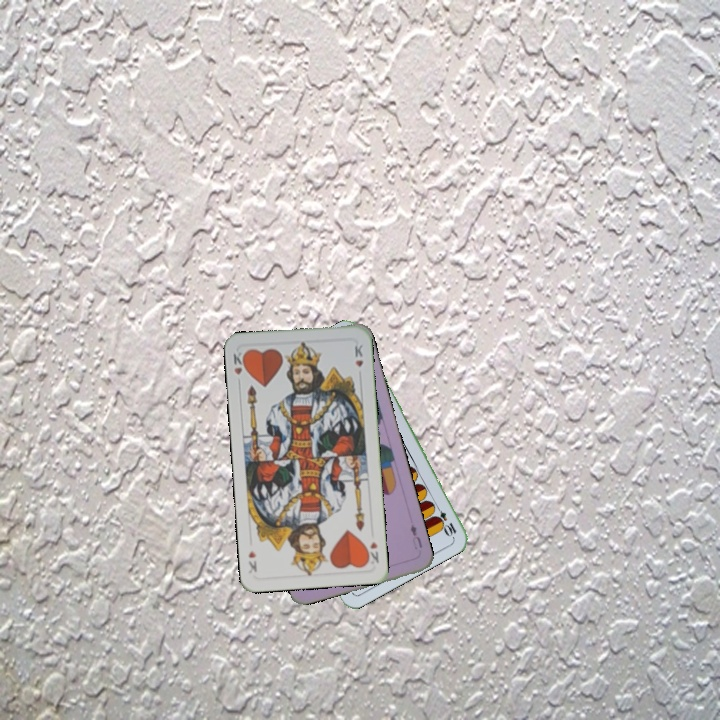E10: (430, 501, 459, 539)
EU: (406, 517, 425, 552)
HK: (229, 347, 249, 378), (362, 537, 382, 567)
